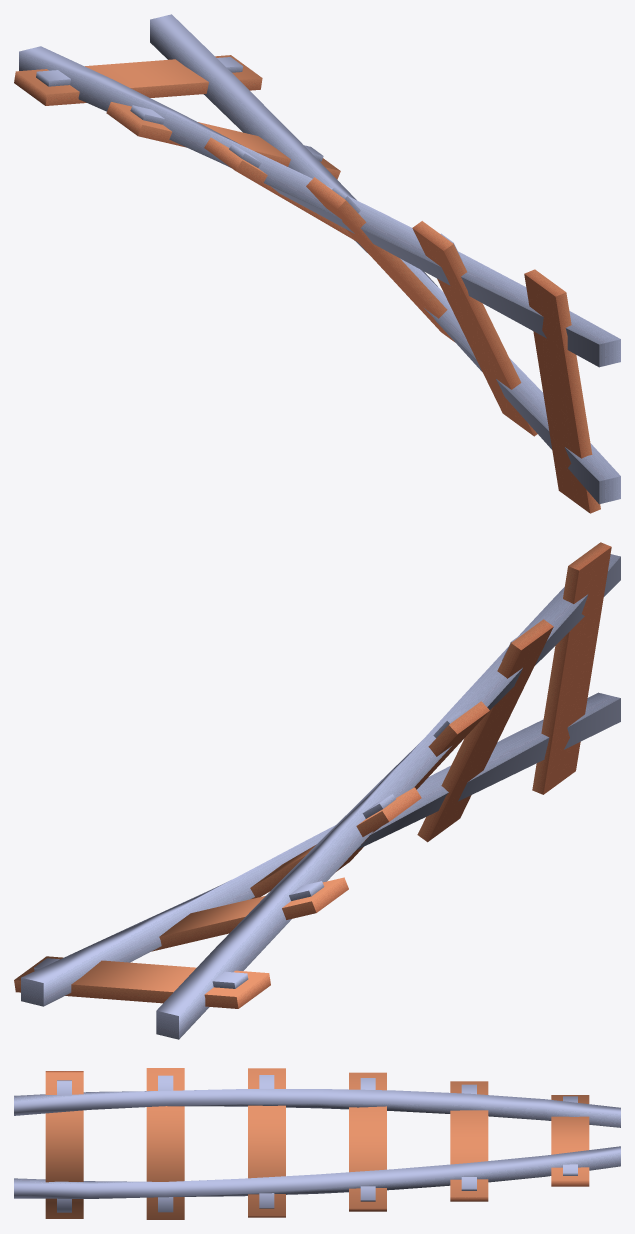
Rendered from railroad-straight-skew-left-side.glb.
3 renders of one model, top to bottom at view 1: azimuth 30°, elevation 25°; view 2: azimuth 150°, elevation 25°; view 3: azimuth 270°, elevation 25°, orthographic. The views are drawn at different scales.
Visible parts, largest first — view 1: railroad-straight-skew-left-side; view 2: railroad-straight-skew-left-side; view 3: railroad-straight-skew-left-side.
Boxes of the visible parts, x1,y1,x2,y2 form: railroad-straight-skew-left-side: [14, 14, 620, 513]; railroad-straight-skew-left-side: [14, 542, 620, 1039]; railroad-straight-skew-left-side: [14, 1068, 620, 1219].
Bounding box in the file's own units: 0.9953 × 0.9953 × 4.
Materials: 1 (1 with a texture image).
